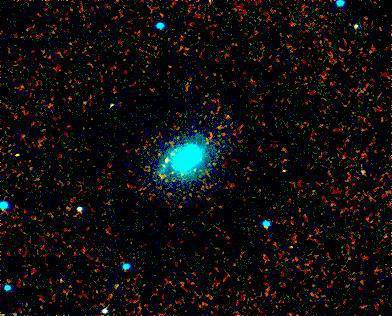star: (148, 148, 178, 178)
